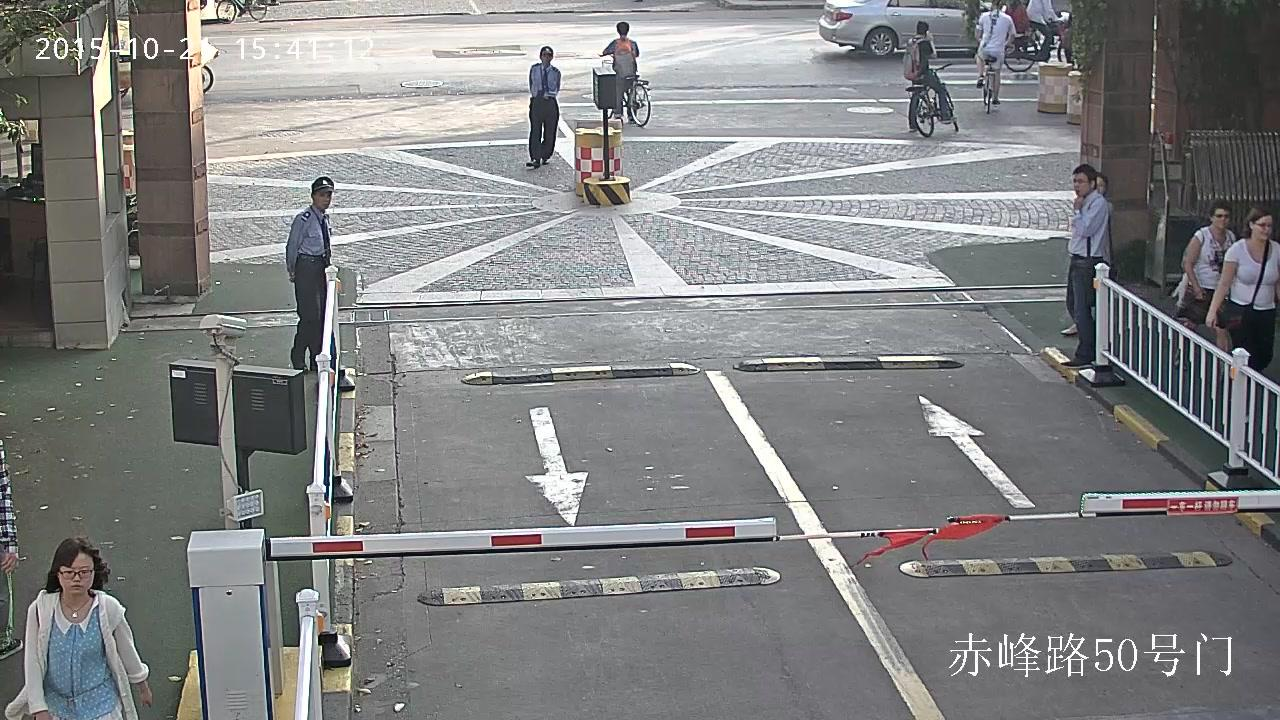face: (58, 551, 93, 593), (1253, 215, 1272, 240), (1073, 172, 1090, 196), (1212, 208, 1230, 229), (314, 192, 331, 209), (1096, 176, 1105, 195), (541, 48, 552, 61)
